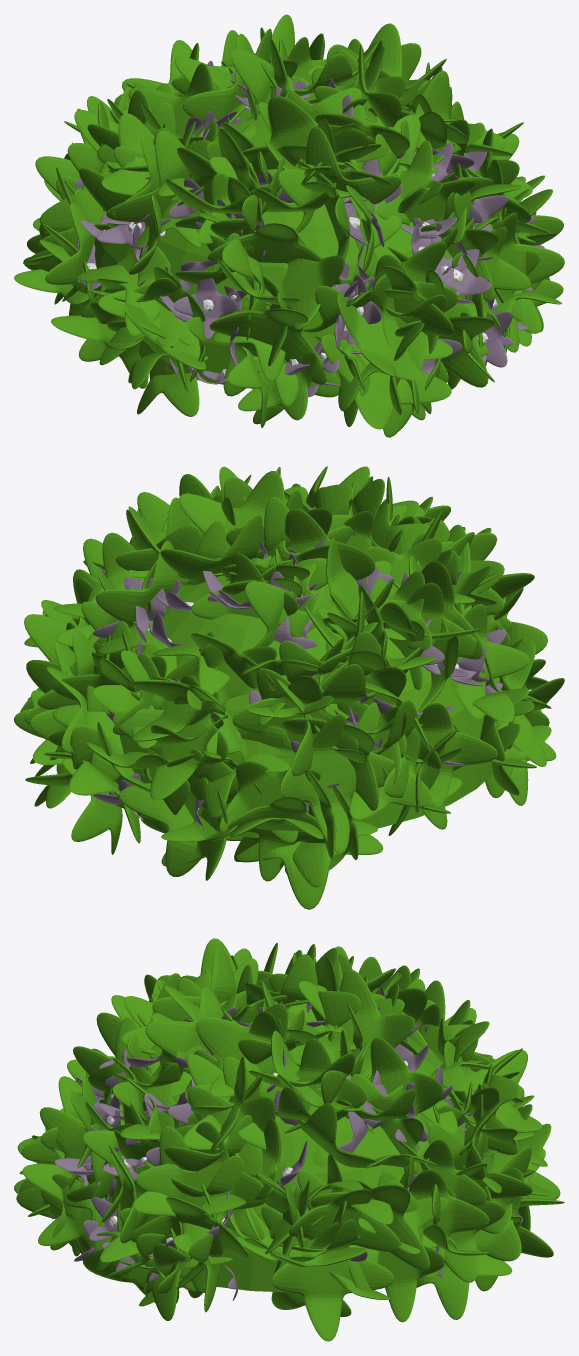
The model's file is puera javanica5 .fbx.
The picture shows the model from 3 angles, top to bottom: view 1: azimuth 30°, elevation 25°; view 2: azimuth 150°, elevation 25°; view 3: azimuth 270°, elevation 25°; orthographic projection. The views are drawn at different scales.
Visible parts, largest first — view 1: Sphere, Sphere|Cube|Dupli|160, Sphere|Cube|Dupli|251, Sphere|Cube|Dupli|232, Sphere|Cube|Dupli|176, Sphere|Cube|Dupli|56, Sphere|Cube|Dupli|221, Sphere|Cube|Dupli|55, Sphere|Cube|Dupli|296, Sphere|Cube|Dupli|52, Sphere|Cube|Dupli|70, Sphere|Cube|Dupli|264 (+97 smaller); view 2: Sphere, Sphere|Cube|Dupli|142, Sphere|Cube|Dupli|131, Sphere|Cube|Dupli|145, Sphere|Cube|Dupli|207, Sphere|Cube|Dupli|71, Sphere|Cube|Dupli|91, Sphere|Cube|Dupli|130, Sphere|Cube|Dupli|179, Sphere|Cube|Dupli|315, Sphere|Cube|Dupli|5, Sphere|Cube|Dupli|233 (+96 smaller); view 3: Sphere, Sphere|Cube|Dupli|82, Sphere|Cube|Dupli|250, Sphere|Cube|Dupli|5, Sphere|Cube|Dupli|57, Sphere|Cube|Dupli|211, Sphere|Cube|Dupli|40, Sphere|Cube|Dupli|9, Sphere|Cube|Dupli|127, Sphere|Cube|Dupli|311, Sphere|Cube|Dupli|300, Sphere|Cube|Dupli|87 (+104 smaller).
Part boxes in pixels (x1,y1,x2,y2): Sphere: (88,92,452,388); Sphere|Cube|Dupli|160: (209,308,326,396); Sphere|Cube|Dupli|251: (321,334,451,429); Sphere|Cube|Dupli|232: (243,226,344,329); Sphere|Cube|Dupli|176: (264,96,369,158); Sphere|Cube|Dupli|56: (336,294,452,376); Sphere|Cube|Dupli|221: (106,130,186,222); Sphere|Cube|Dupli|55: (465,212,564,352); Sphere|Cube|Dupli|296: (372,241,471,351); Sphere|Cube|Dupli|52: (207,223,340,284); Sphere|Cube|Dupli|70: (305,126,401,204); Sphere|Cube|Dupli|264: (395,316,494,387); Sphere: (109,575,492,837); Sphere|Cube|Dupli|142: (280,714,401,853); Sphere|Cube|Dupli|131: (112,675,228,800); Sphere|Cube|Dupli|145: (418,703,497,807); Sphere|Cube|Dupli|207: (232,675,358,767); Sphere|Cube|Dupli|71: (178,471,284,575); Sphere|Cube|Dupli|91: (228,796,325,881); Sphere|Cube|Dupli|130: (119,783,242,876); Sphere|Cube|Dupli|179: (219,760,320,843); Sphere|Cube|Dupli|315: (435,604,529,718); Sphere|Cube|Dupli|5: (160,514,262,585); Sphere|Cube|Dupli|233: (258,508,375,580); Sphere: (110,1021,494,1292); Sphere|Cube|Dupli|82: (272,1221,394,1341); Sphere|Cube|Dupli|250: (136,1121,268,1242); Sphere|Cube|Dupli|5: (314,969,415,1077); Sphere|Cube|Dupli|57: (289,1189,401,1251); Sphere|Cube|Dupli|211: (130,1197,248,1293); Sphere|Cube|Dupli|40: (368,1037,443,1117); Sphere|Cube|Dupli|9: (178,1086,275,1182); Sphere|Cube|Dupli|127: (409,1169,489,1279); Sphere|Cube|Dupli|311: (196,1003,295,1074); Sphere|Cube|Dupli|300: (310,1185,430,1270); Sphere|Cube|Dupli|87: (443,1041,542,1132).
Bounding box in the file's own units: 269 × 165 × 274.
